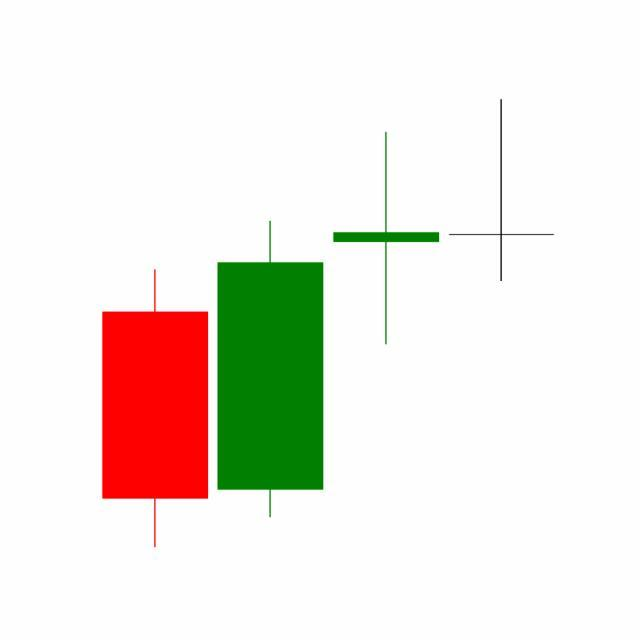Up-Down Gap Side-by-side White Lines: (211, 100, 555, 523)
